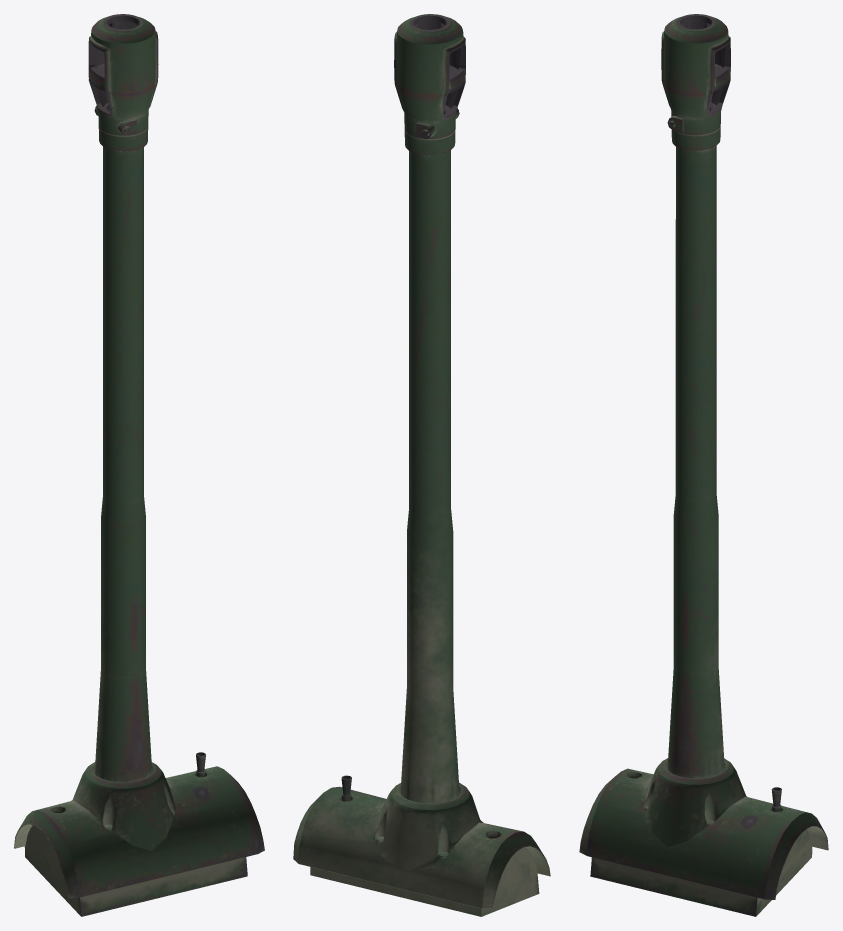
The model's file is Gun_01.glb.
The picture shows the model from 3 angles, left to right: view 1: azimuth 30°, elevation 25°; view 2: azimuth 150°, elevation 25°; view 3: azimuth 330°, elevation 25°; orthographic projection. The views are drawn at different scales.
Visible parts, largest first — view 1: set_0_group_0; view 2: set_0_group_0; view 3: set_0_group_0.
Part boxes in pixels (bbox=[...]): set_0_group_0: bbox=[14, 14, 264, 916]; set_0_group_0: bbox=[293, 14, 550, 916]; set_0_group_0: bbox=[579, 14, 828, 916].
Size of the model in its own units: 1.06 by 4.39 by 0.5491.
Materials: 1 (1 with a texture image).
